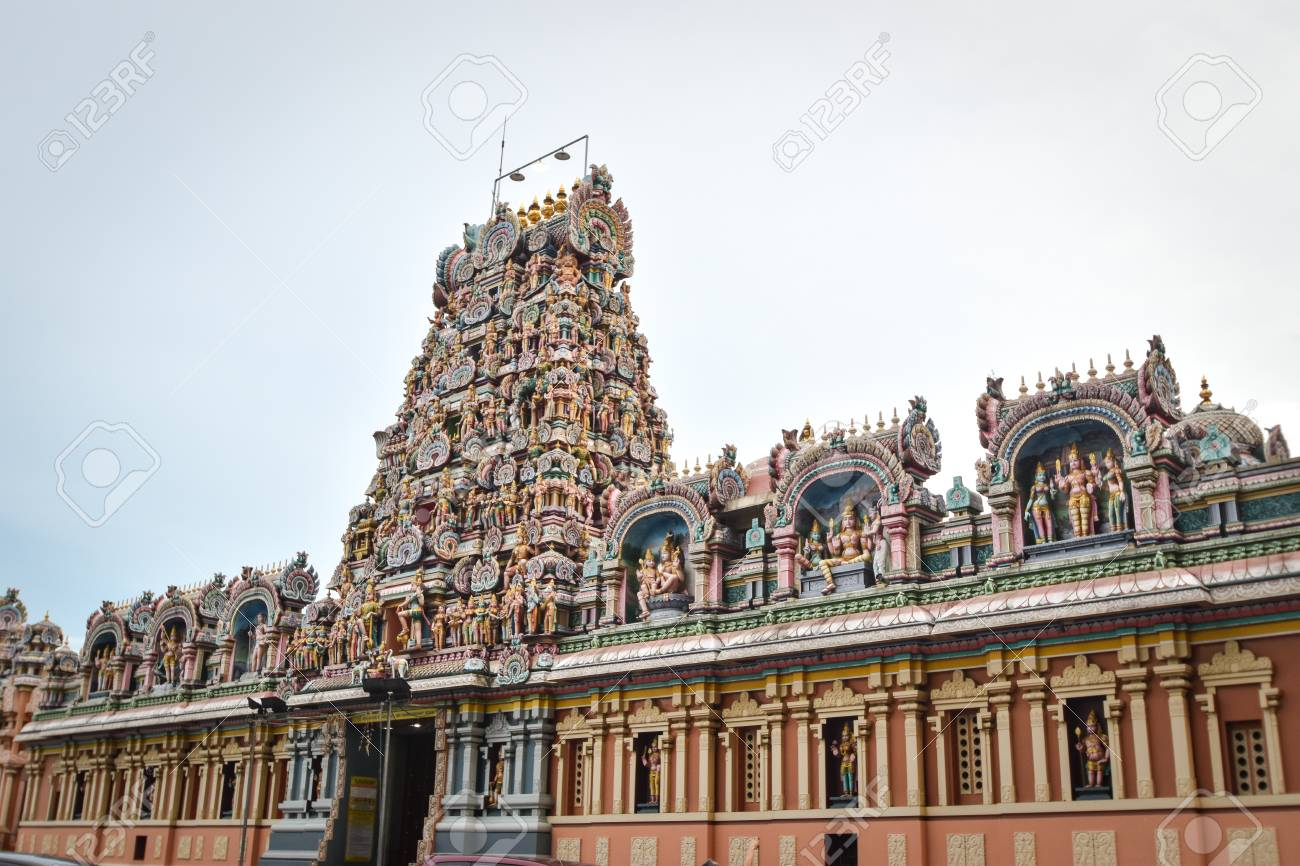Hindu Temple: (60, 158, 1300, 851)
